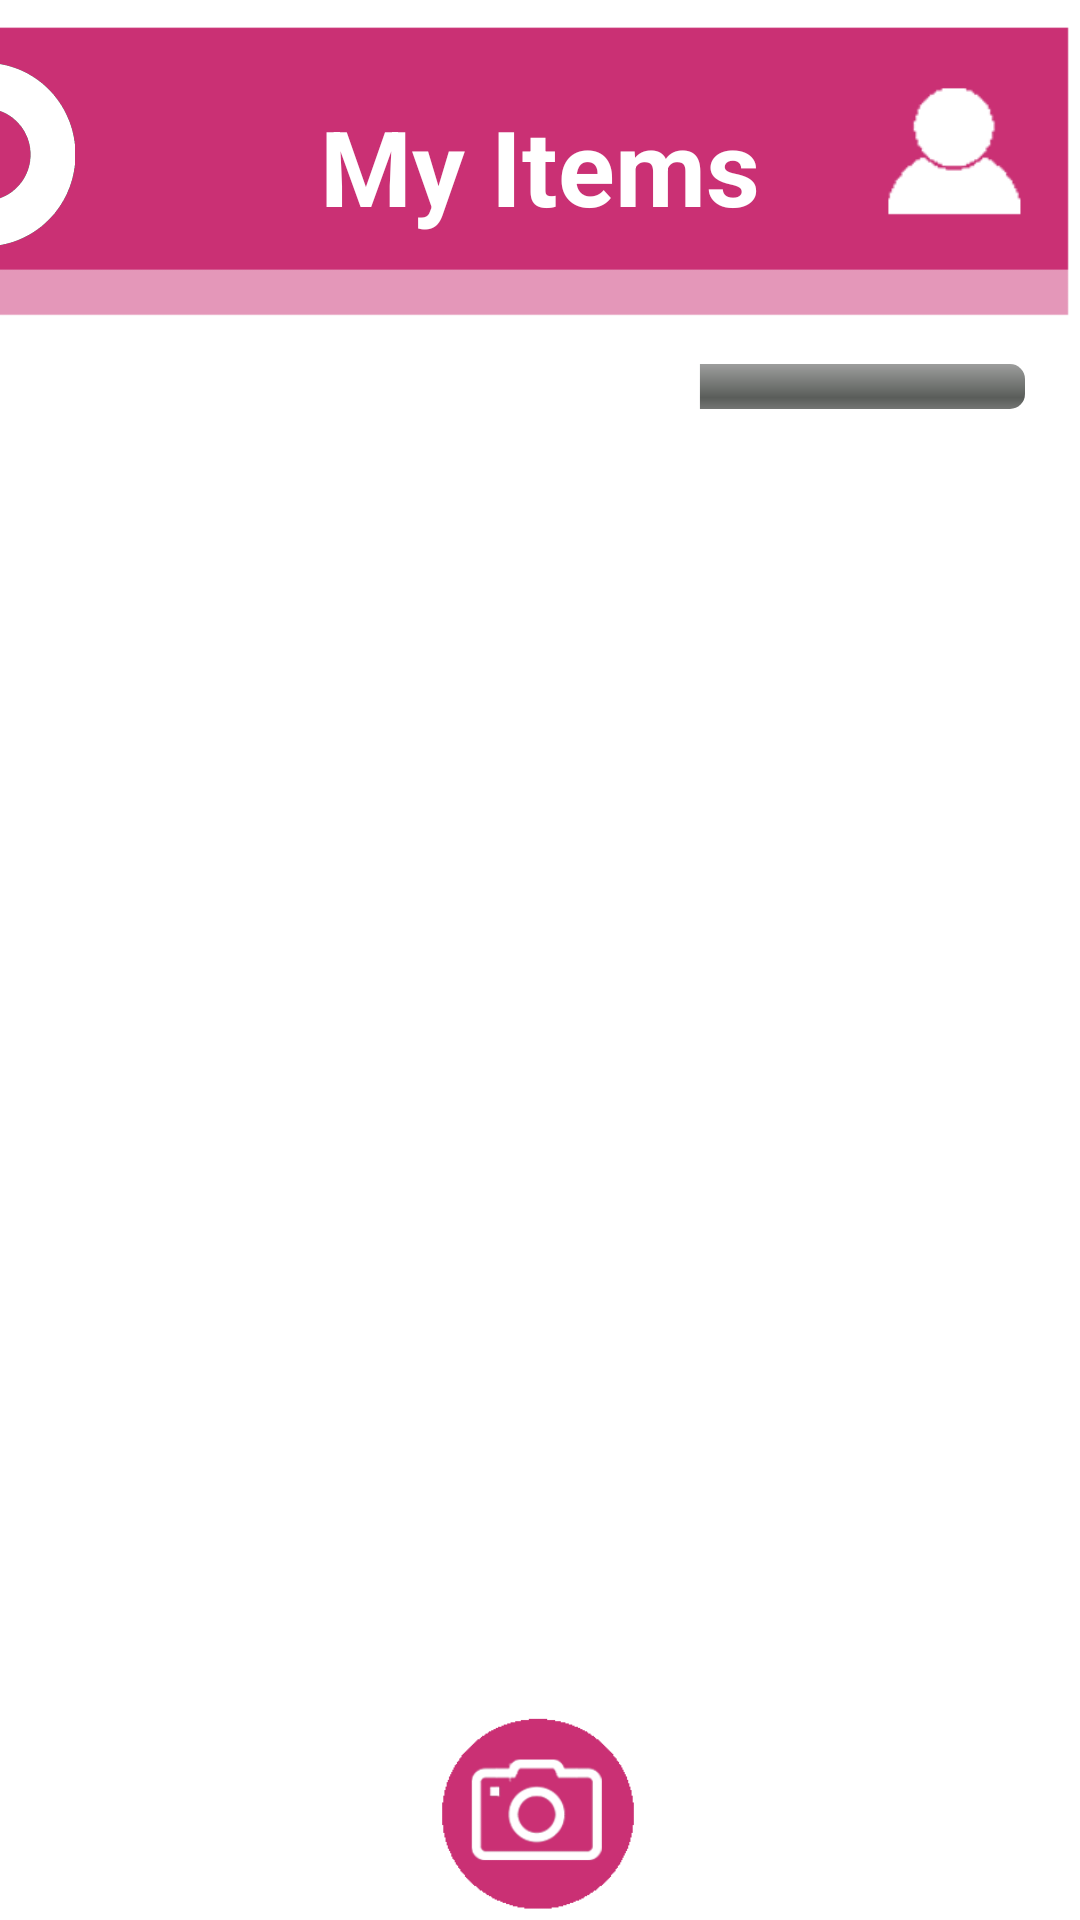

Icon bounding boxes for this 1080 × 1920 phone screenshot, format [left=x1, top=y1, right=x2, bottom=y2]:
camera: [left=442, top=1718, right=634, bottom=1909]
